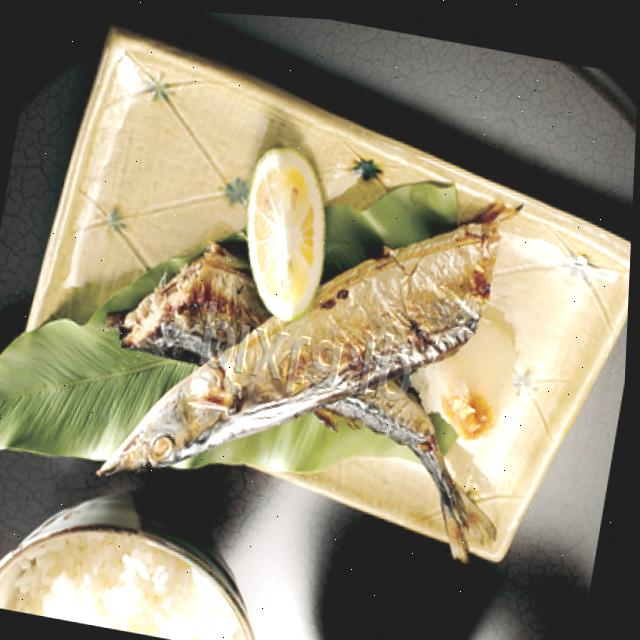米饭主食: (0, 481, 297, 640)
